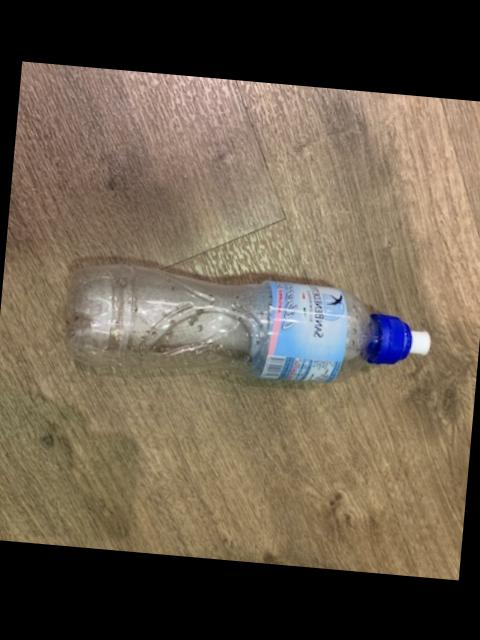plastic: (69, 265, 431, 382)
